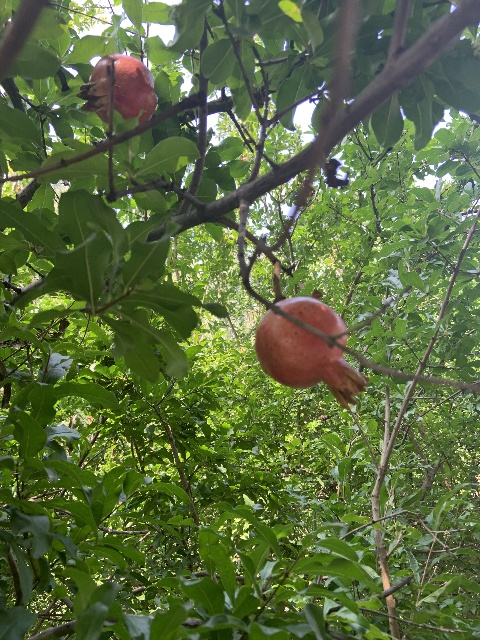ripe: (255, 296, 369, 409), (76, 53, 157, 124)
